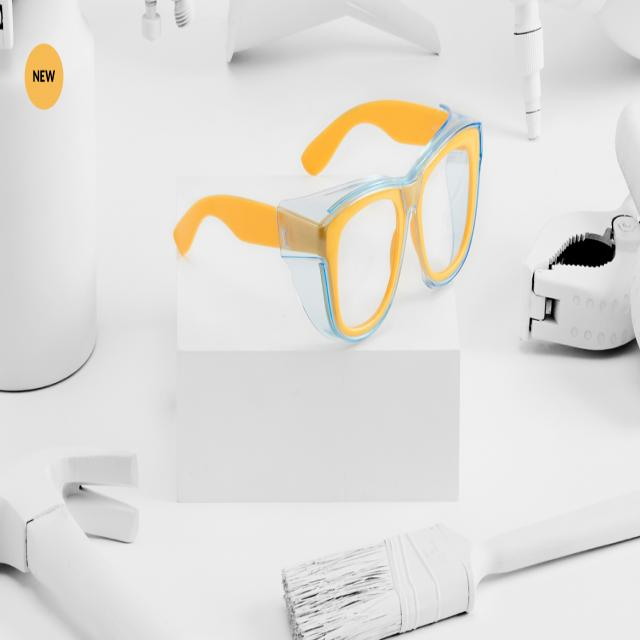Protective Glasses: (164, 95, 493, 356)
